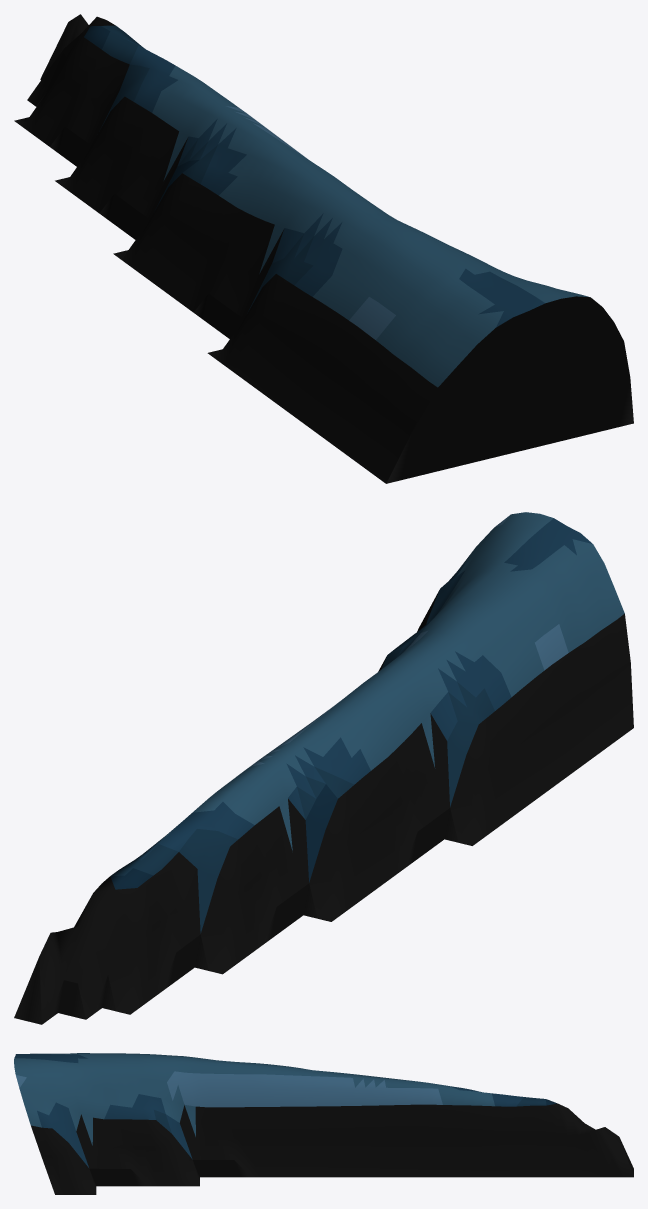
The model's file is gryphon_7.glb.
The picture shows the model from 3 angles, top to bottom: view 1: azimuth 30°, elevation 25°; view 2: azimuth 150°, elevation 25°; view 3: azimuth 270°, elevation 25°; orthographic projection. The views are drawn at different scales.
Visible parts, largest first — view 1: gryphon_7; view 2: gryphon_7; view 3: gryphon_7.
Part boxes in pixels (bbox=[...]): gryphon_7: bbox=[14, 14, 633, 483]; gryphon_7: bbox=[14, 512, 633, 1024]; gryphon_7: bbox=[14, 1053, 633, 1194].
Bounding box in the file's own units: 8 × 5.47 × 29.99.
